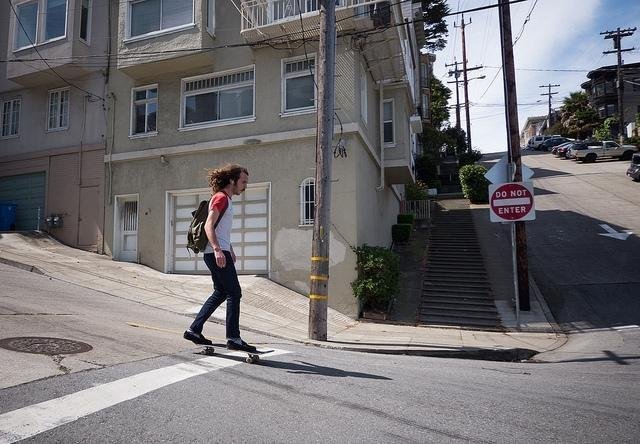car: (567, 141, 605, 159), (626, 152, 640, 182), (528, 135, 560, 148), (538, 139, 566, 152), (552, 142, 574, 156)
truck: (578, 140, 636, 162)
